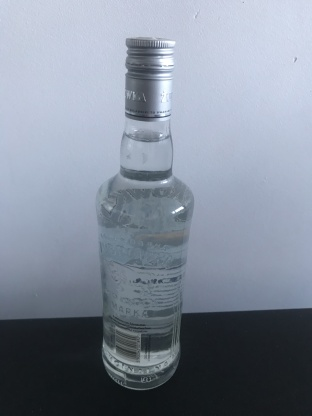nakretka: (123, 34, 177, 123)
